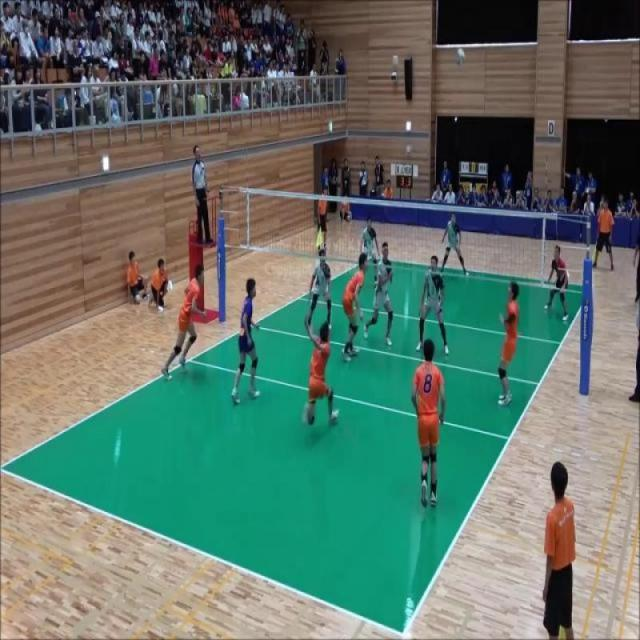volleyball: (454, 48, 466, 66)
